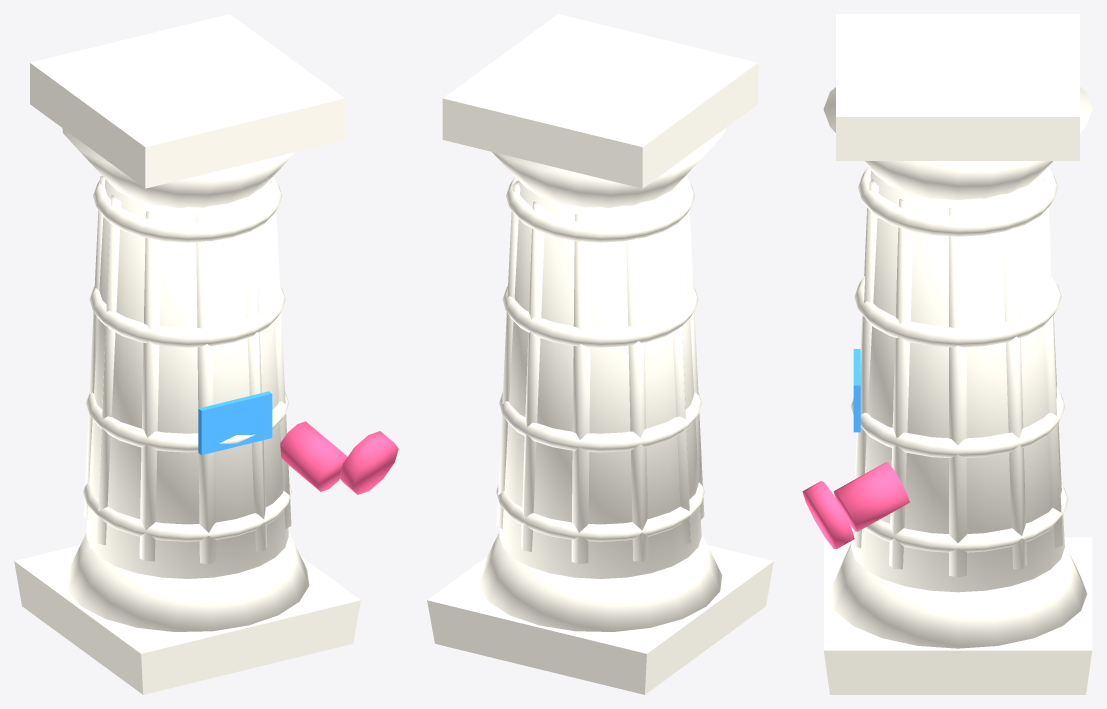
Rendered from columna.glb.
3 views of the same model, side by side, from view 1: azimuth 30°, elevation 25°; view 2: azimuth 150°, elevation 25°; view 3: azimuth 270°, elevation 25° (orthographic). The views are drawn at different scales.
Parts seen in each view (by area): view 1: columna_fuste, columna_abaco, columna_plinto, columna_base, columna_equino, columna_estria_6, columna_estria_7, columna_costura_3, columna_costura_2, columna_etiqueta, columna_costura_0, columna_estria_8 (+6 smaller); view 2: columna_fuste, columna_abaco, columna_plinto, columna_base, columna_equino, columna_estria_3, columna_estria_4, columna_costura_3, columna_costura_2, columna_costura_1, columna_estria_2, columna_costura_0 (+3 smaller); view 3: columna_fuste, columna_abaco, columna_plinto, columna_base, columna_equino, columna_estria_0, columna_estria_1, columna_costura_3, columna_costura_2, columna_estria_9, columna_costura_1, columna_costura_0 (+5 smaller).
Boxes of the visible parts, x1,y1,x2,y2 form: columna_fuste: (86,179,288,578); columna_abaco: (30,14,345,188); columna_plinto: (14,545,360,694); columna_base: (66,532,309,631); columna_equino: (62,128,295,207); columna_estria_6: (139,211,162,561); columna_estria_7: (196,214,216,564); columna_costura_3: (93,177,281,242); columna_costura_2: (89,286,285,347); columna_etiqueta: (198,391,272,455); columna_costura_0: (83,482,291,541); columna_estria_8: (242,201,267,551); columna_fuste: (499,179,701,578); columna_abaco: (442,14,758,188); columna_plinto: (427,545,773,694); columna_base: (478,531,722,631); columna_equino: (492,128,725,207); columna_estria_3: (571,214,591,564); columna_estria_4: (626,211,648,561); columna_costura_3: (506,177,694,242); columna_costura_2: (502,286,698,347); columna_costura_1: (499,391,701,452); columna_estria_2: (521,201,545,551); columna_costura_0: (496,482,704,541); columna_fuste: (851,170,1064,592); columna_abaco: (836,14,1079,160); columna_plinto: (824,537,1092,694); columna_base: (828,544,1087,648); columna_equino: (823,87,1092,200); columna_estria_0: (949,208,966,577); columna_estria_1: (1001,199,1026,569); columna_costura_3: (858,167,1057,236); columna_costura_2: (854,276,1061,347); columna_estria_9: (889,199,914,569); columna_costura_1: (850,387,1065,457); columna_costura_0: (864,484,1068,552).
Size of the model in its own units: 0.1829 by 0.368 by 0.1682.
